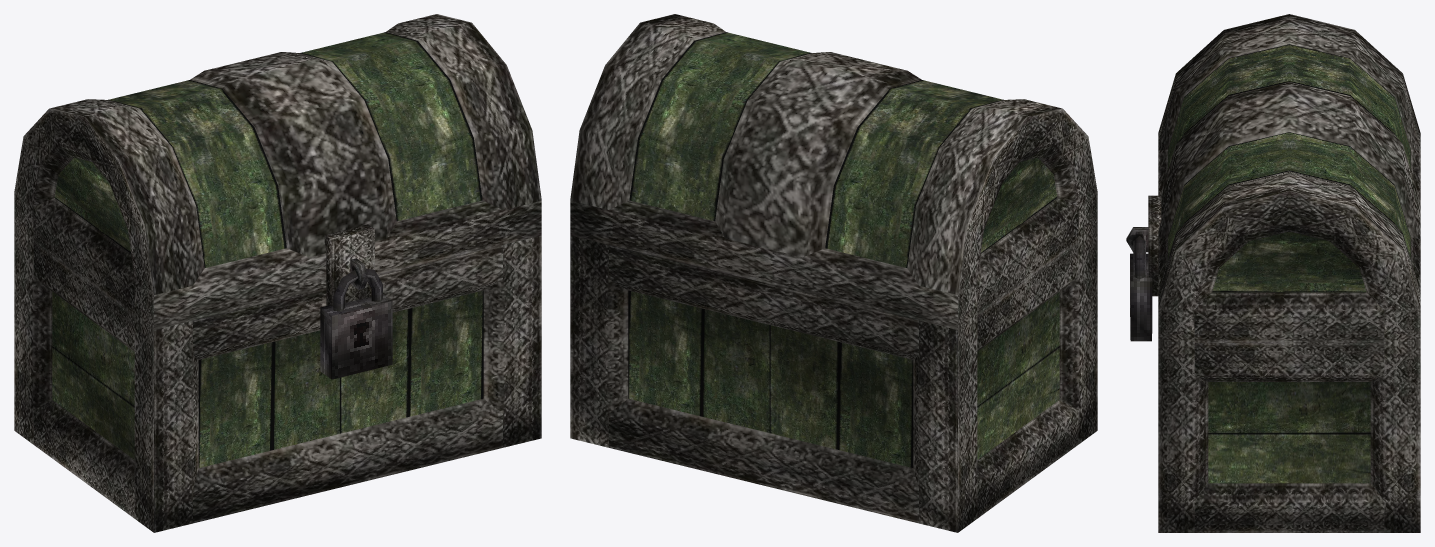
The model's file is ITMI_GOLDCHEST_SQ413.glb.
The picture shows the model from 3 angles, left to right: view 1: azimuth 30°, elevation 25°; view 2: azimuth 150°, elevation 25°; view 3: azimuth 270°, elevation 25°; orthographic projection. The views are drawn at different scales.
Parts seen in each view (by area): view 1: Mesh; view 2: Mesh; view 3: Mesh.
Part boxes in pixels (x1=…): Mesh: x1=14, y1=14, x2=541, y2=532; Mesh: x1=570, y1=14, x2=1097, y2=532; Mesh: x1=1126, y1=14, x2=1420, y2=532.
Size of the model in its own units: 0.4 by 0.3594 by 0.2804.
Materials: 4 (4 with a texture image).
